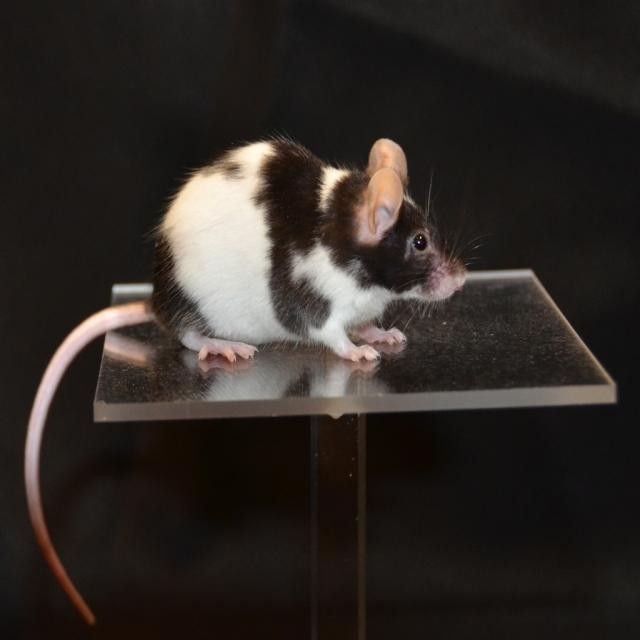rat: (25, 140, 483, 626)
